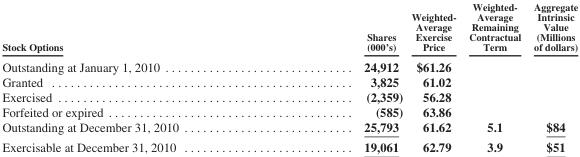table: (1, 0, 577, 154)
table column: (1, 0, 270, 154), (270, 0, 406, 154), (461, 0, 526, 154), (406, 0, 461, 154), (526, 0, 577, 154)
table column header: (1, 0, 577, 55)
table row: (1, 0, 577, 55), (1, 55, 577, 73), (1, 136, 577, 154), (1, 119, 577, 136), (1, 103, 577, 119), (1, 73, 577, 88), (1, 88, 577, 103)
